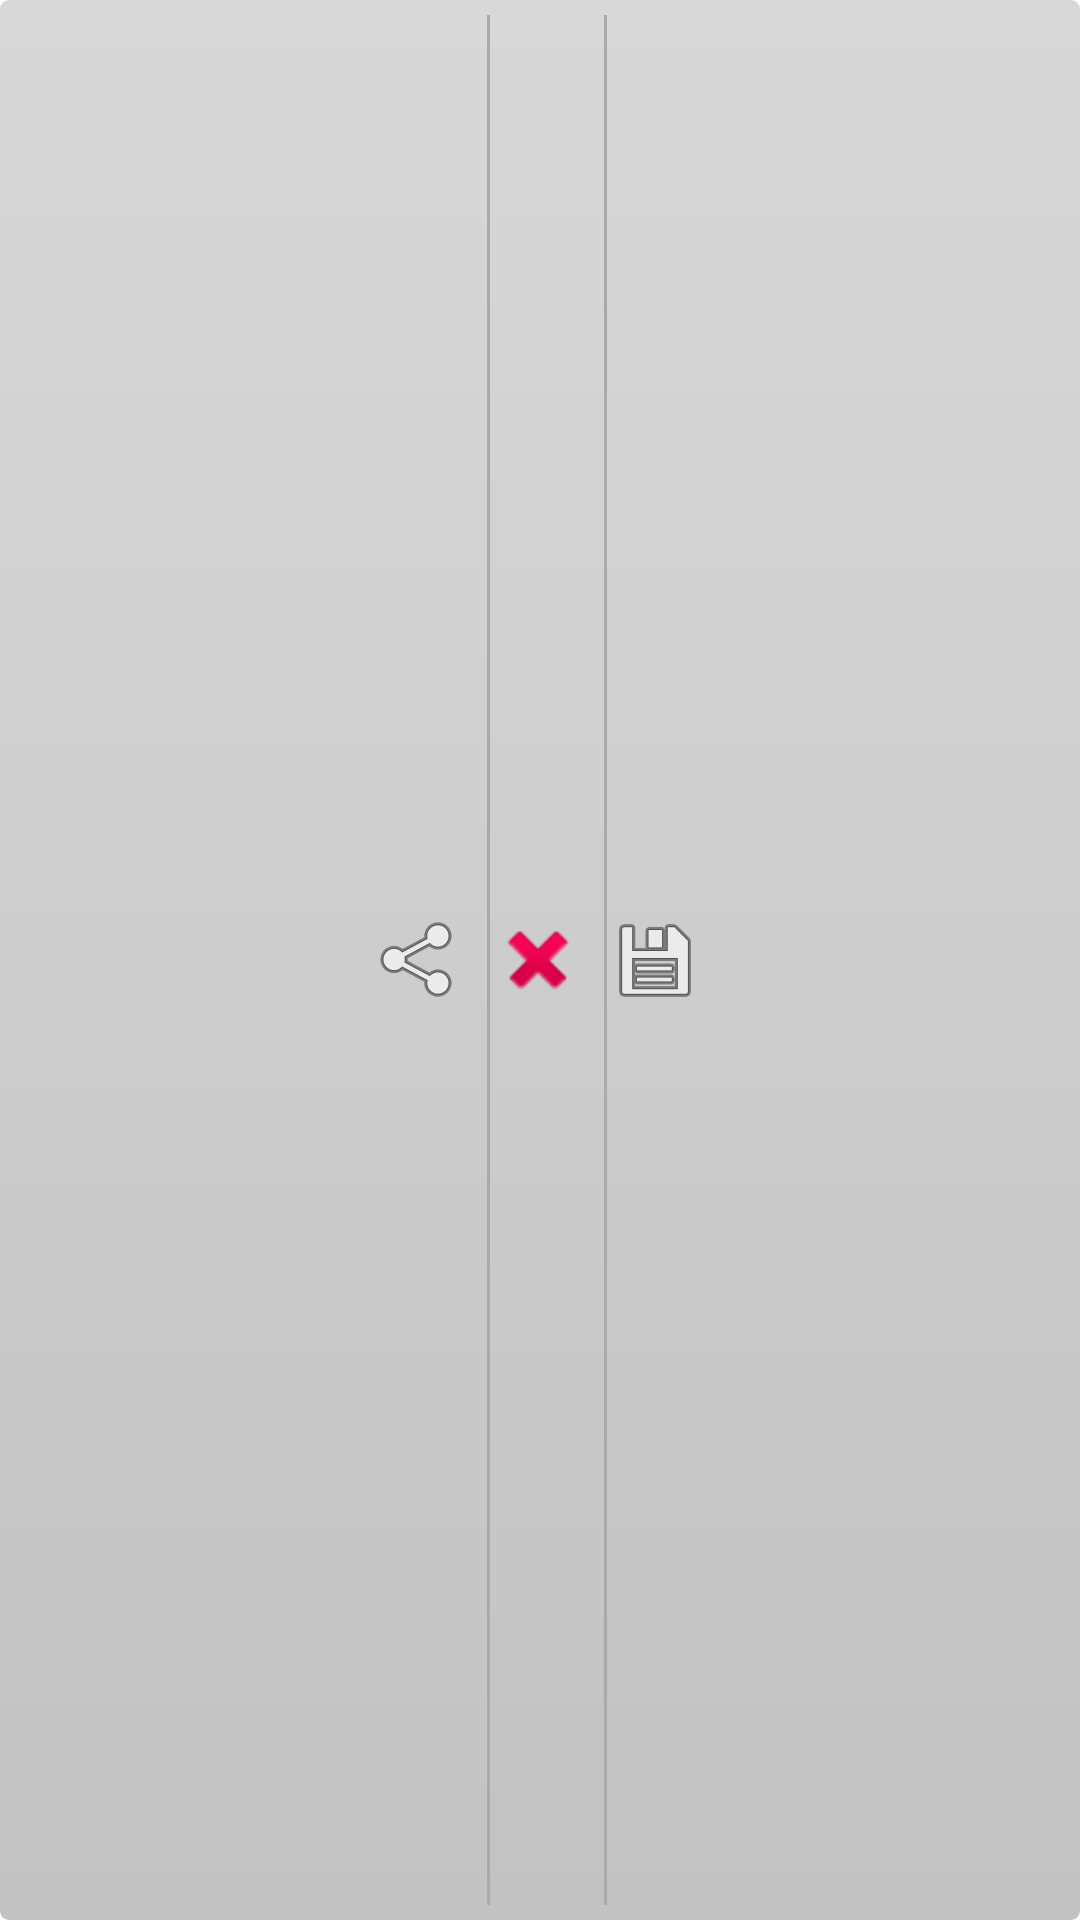

Where icons sit on this 1080px×1920px app screen, as [x1,y1,x2,y2]:
delete button: [508,931,568,989]
share button: [380,922,452,997]
